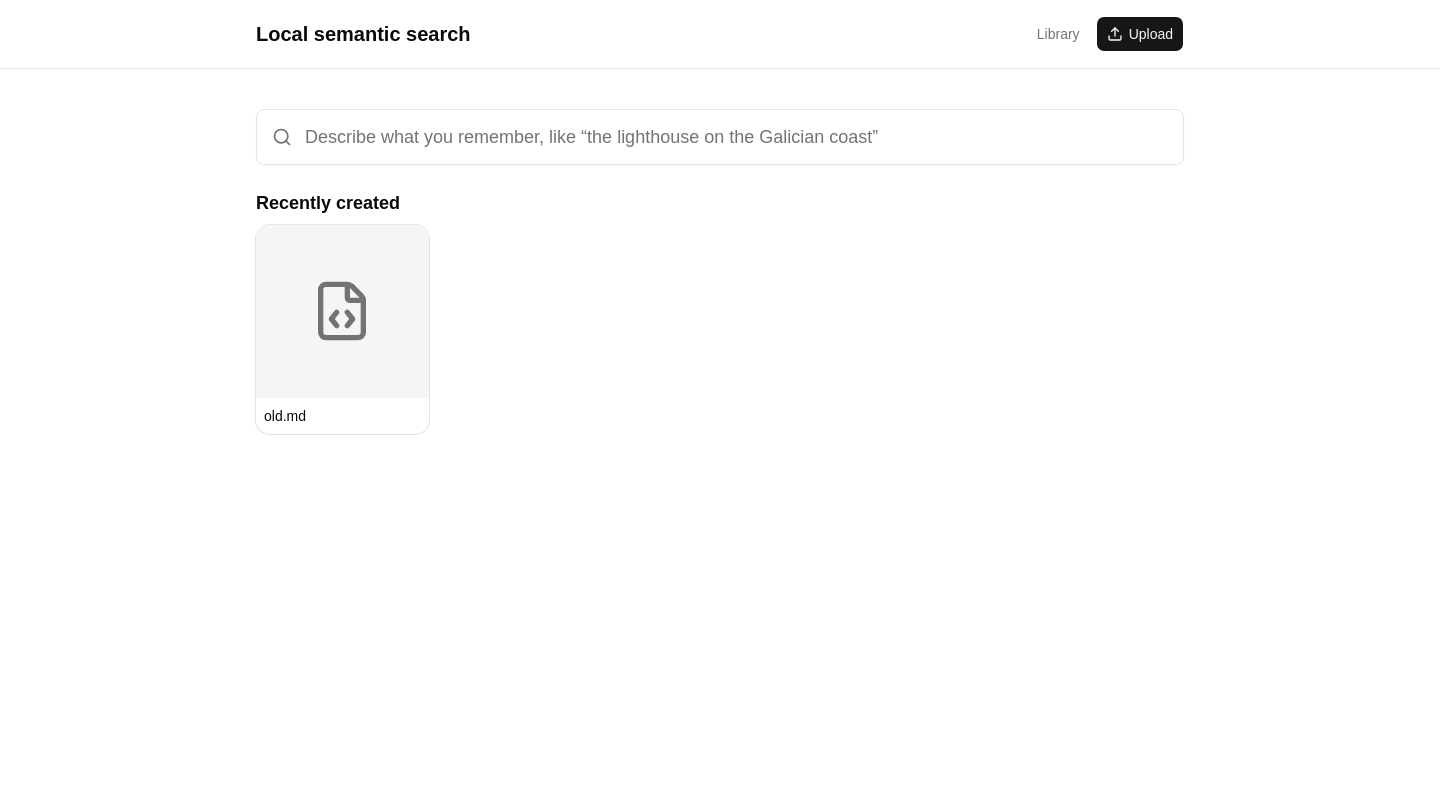
Test: App › the upload drawer › should open from the Upload button on /
Click the button "Upload" at (1140, 34), box 1096,16 -> 1184,52
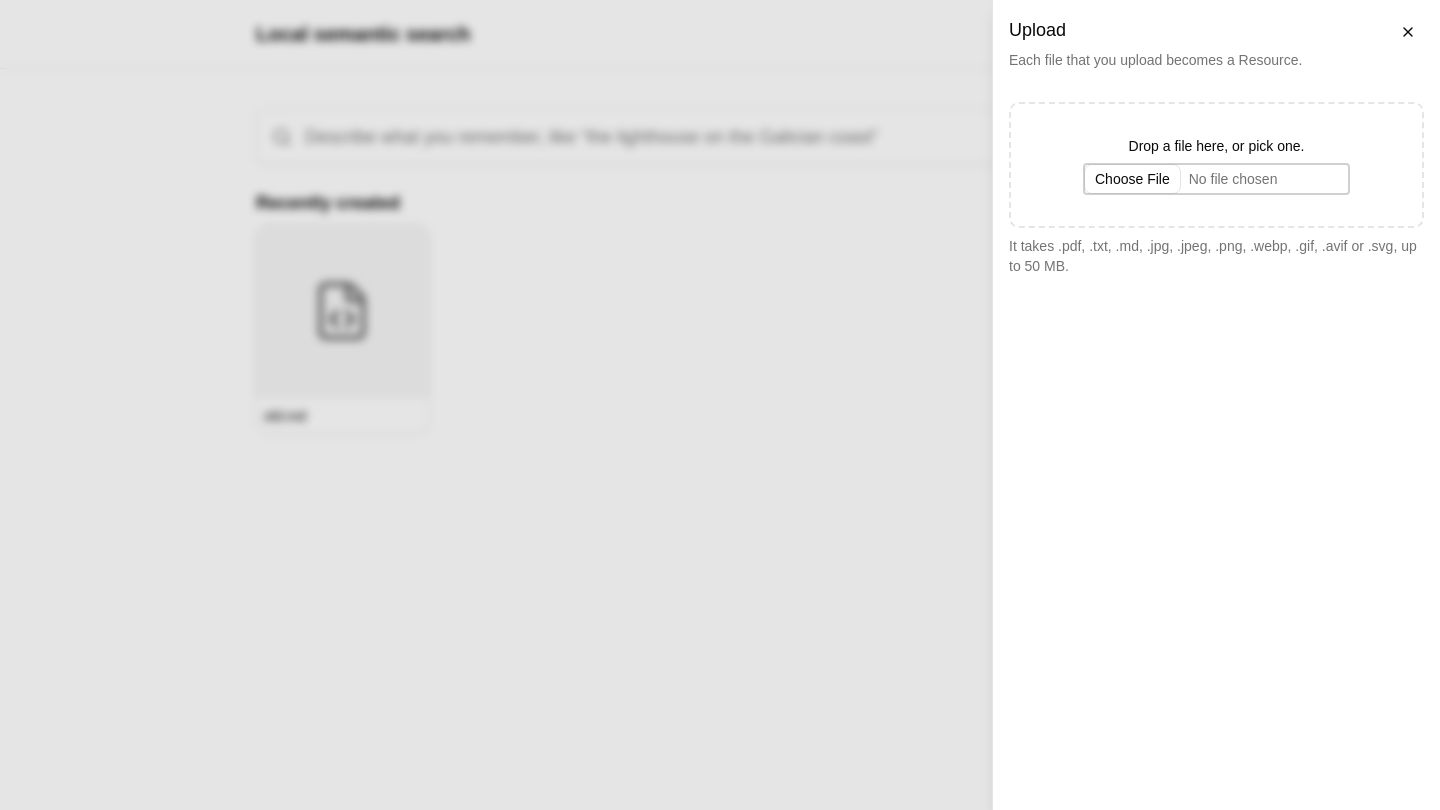
Expected: the dialog "Upload" is shown, 992,0 -> 1439,809
Expected: the file field labelled "Drop a file here, or pick one." is shown, 1084,164 -> 1349,194
